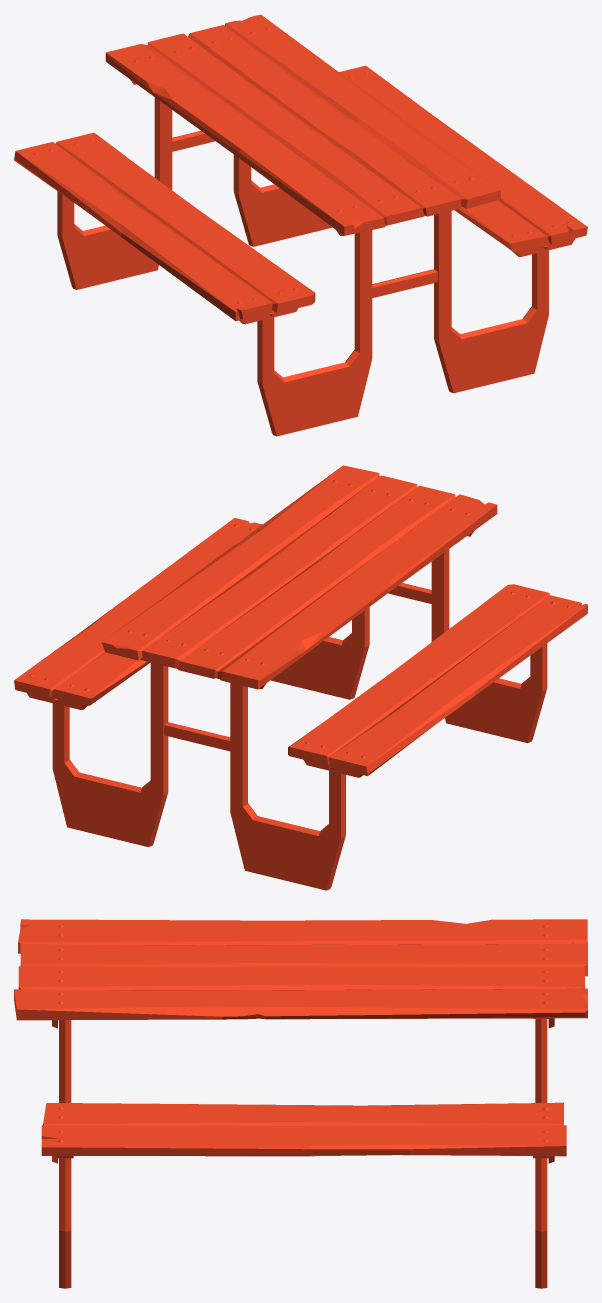
The model's file is SM_Table_C_City.fbx.
3 renders of one model, top to bottom at view 1: azimuth 30°, elevation 25°; view 2: azimuth 150°, elevation 25°; view 3: azimuth 270°, elevation 25°, orthographic. The views are drawn at different scales.
Visible parts, largest first — view 1: SM_Table_C_City; view 2: SM_Table_C_City; view 3: SM_Table_C_City.
Part boxes in pixels (x1=…): SM_Table_C_City: x1=14, y1=14, x2=587, y2=436; SM_Table_C_City: x1=14, y1=465, x2=587, y2=890; SM_Table_C_City: x1=14, y1=919, x2=587, y2=1288.
Bounding box in the file's own units: 1.86 × 1.06 × 2.19.
